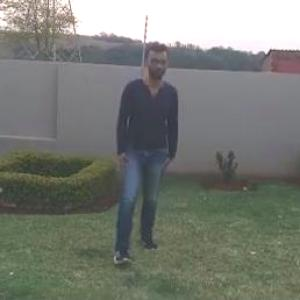follow: (106, 29, 174, 274)
